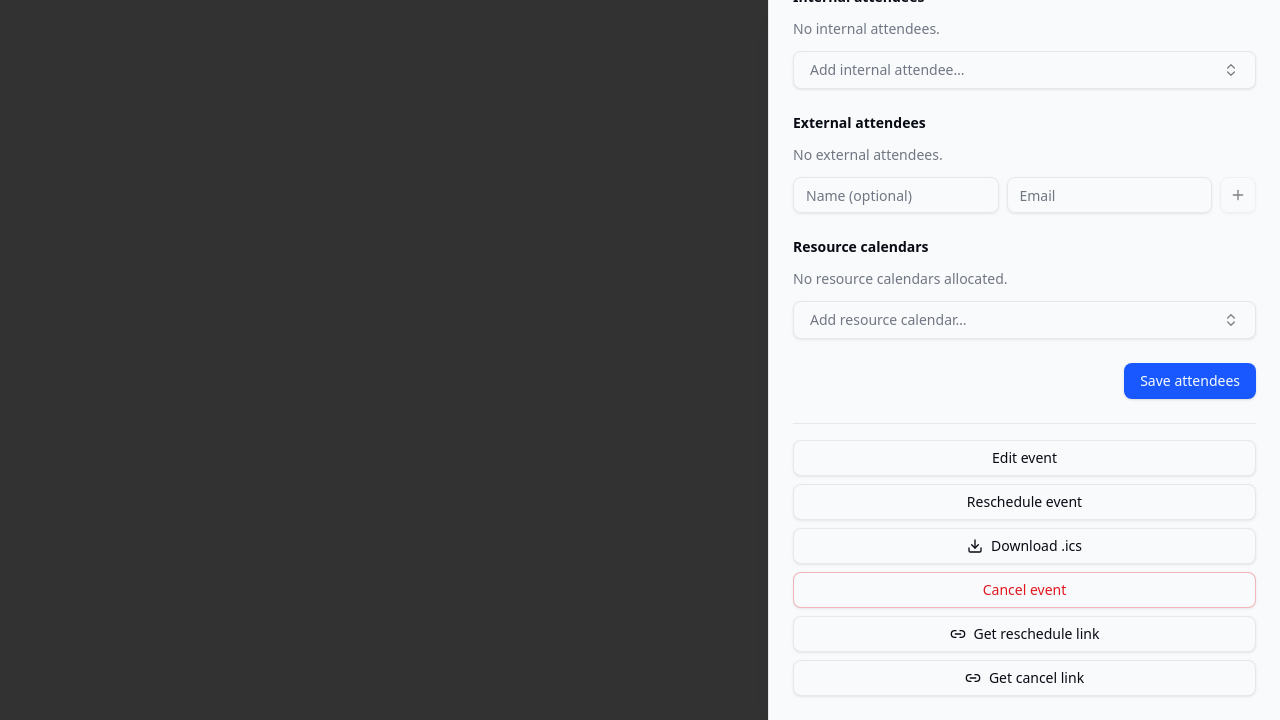
Test: EventAttendeesSheet — cancel flow › non-recurring event › opens the AlertDialog when "Cancel event" is clicked
The image size is (1280, 720).
(page scrolled)
What coordinates should you click on to do the following:
click the button "Cancel event"
I would click on:
 (1024, 590)
Its box is [793,572,1256,608].
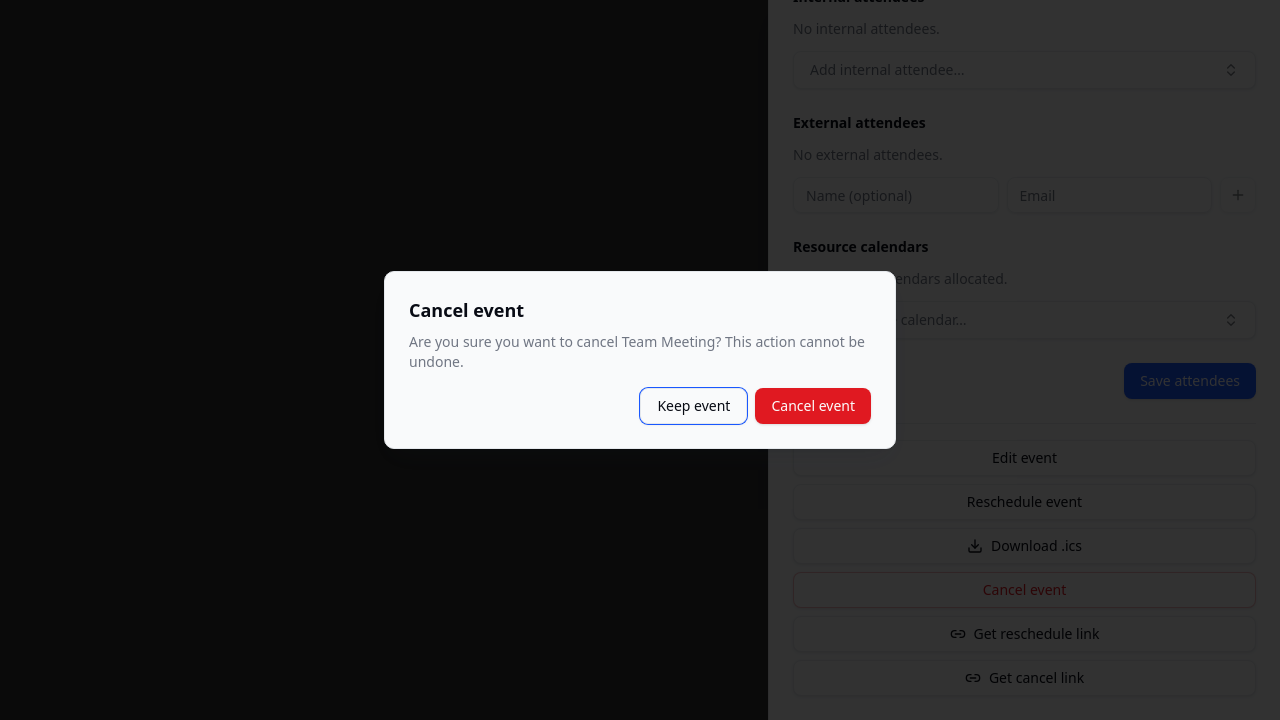
Expected: the button "Keep event" is shown, [640,388,747,424]
